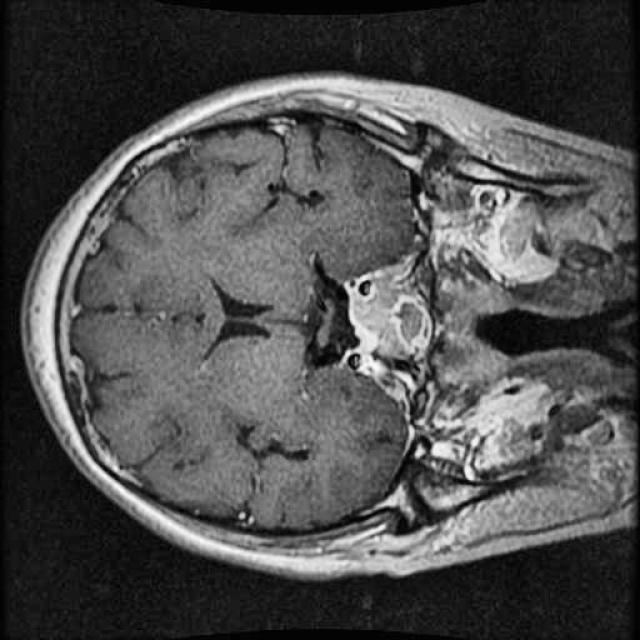Tumor: (339, 265, 448, 368)
